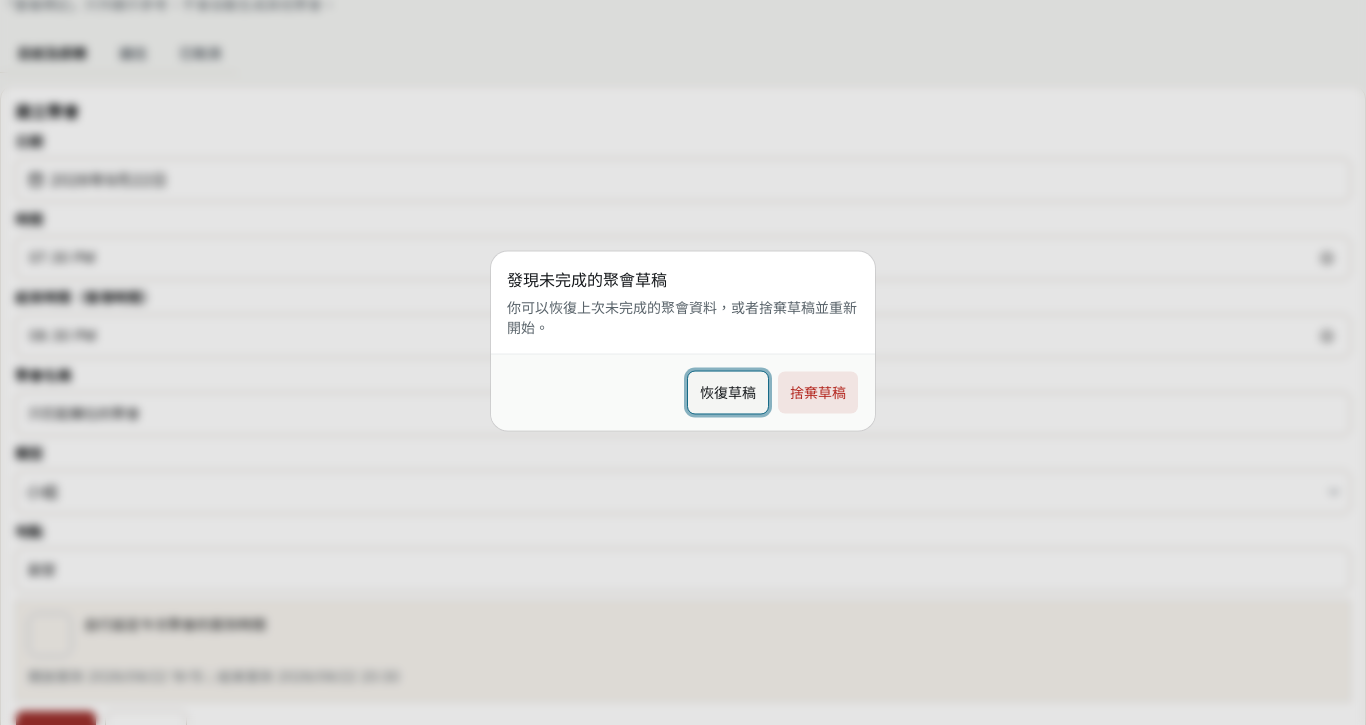
it: EventsTask operations-first composition › does not open a different Event that only matches create fields
Step 1. Click the button "恢復草稿" → (728, 392), box [687, 370, 769, 414]
(page scrolled)
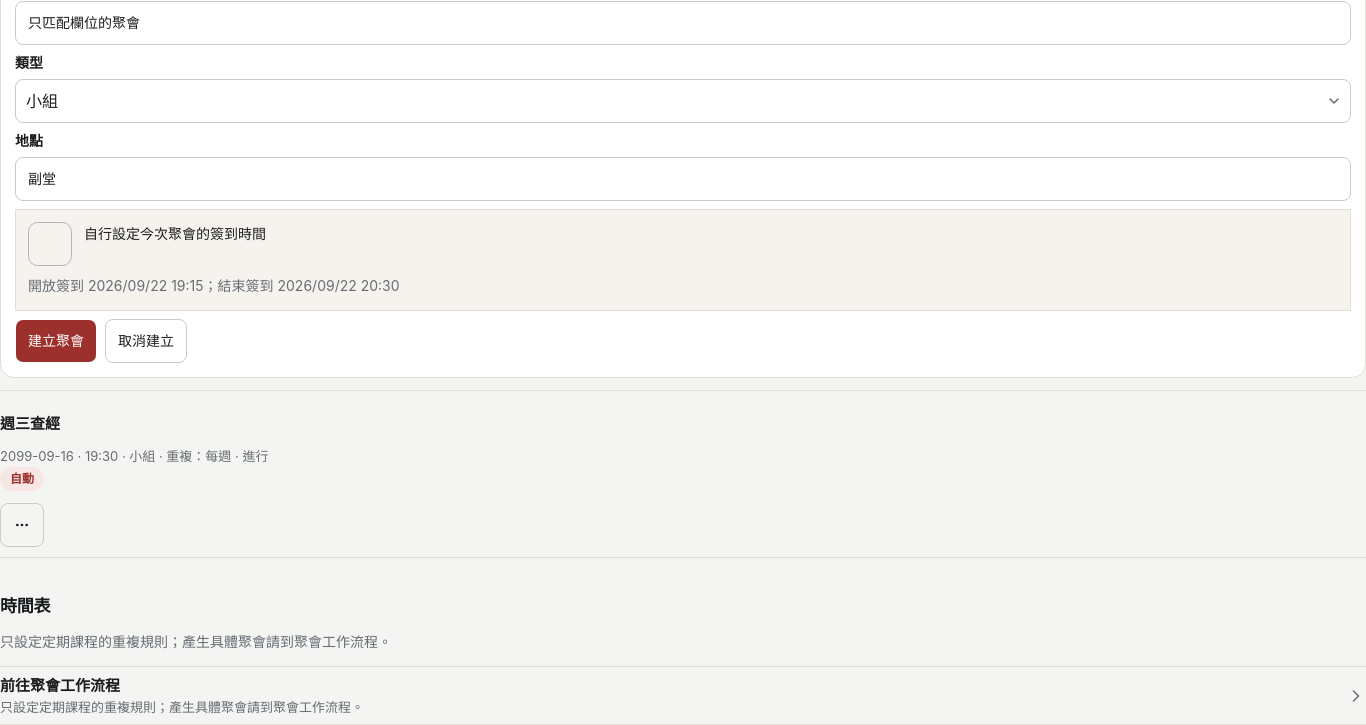
Step 2. Click the button "建立聚會" → (56, 341), box [15, 319, 97, 363]
(page scrolled)
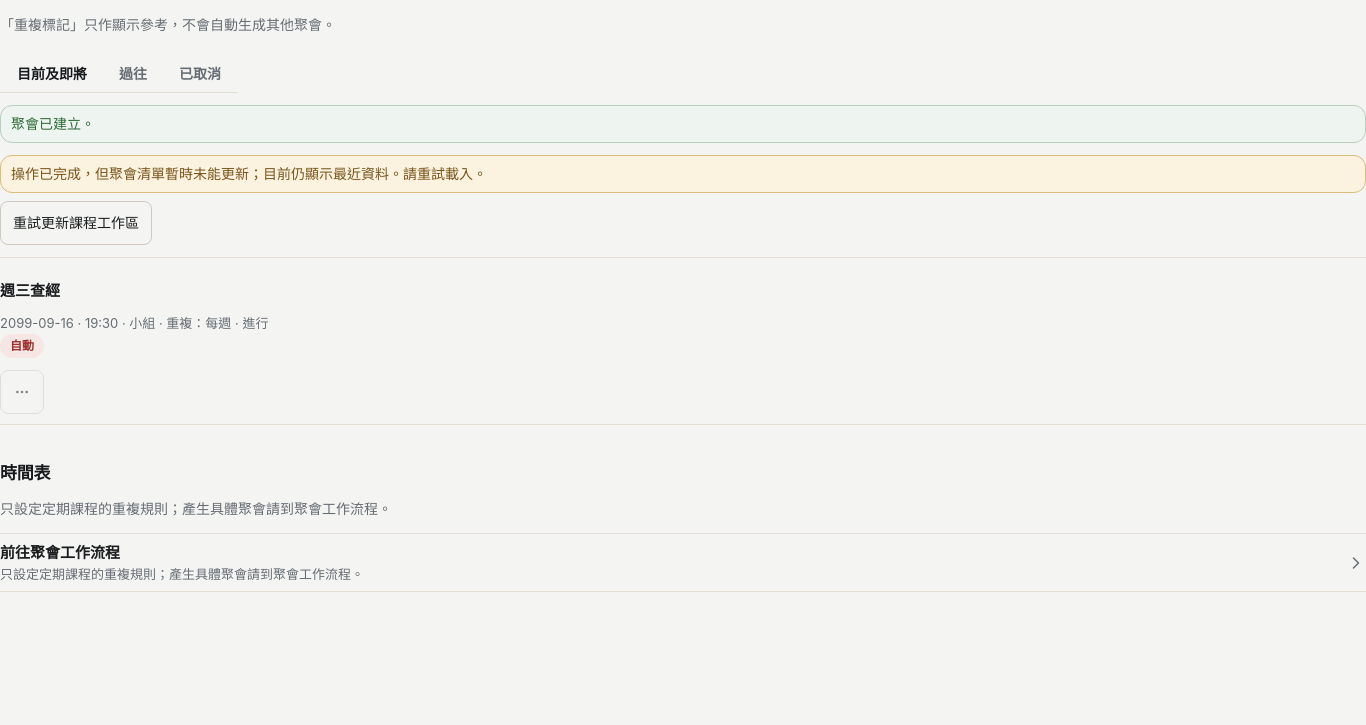
Now the text "操作已完成，但聚會清單暫時未能更新；目前仍顯示最近資料。請重試載入。" is shown, box [0, 155, 1365, 193]
